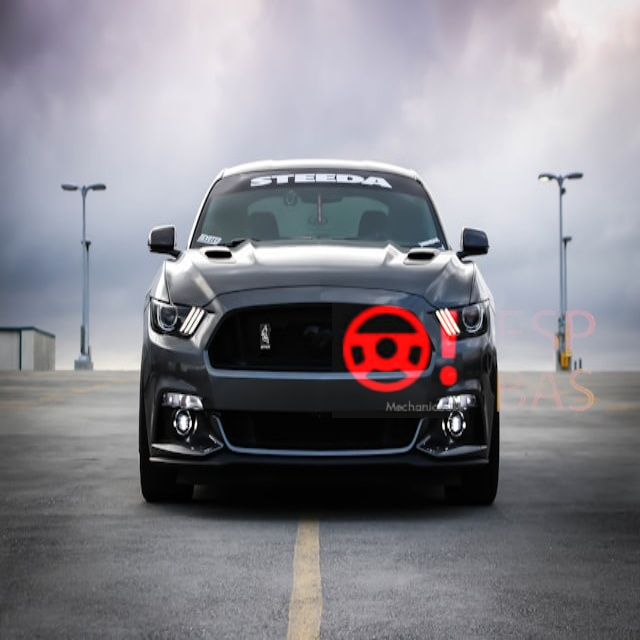symbol: (464, 279, 630, 445), (332, 281, 469, 418)
